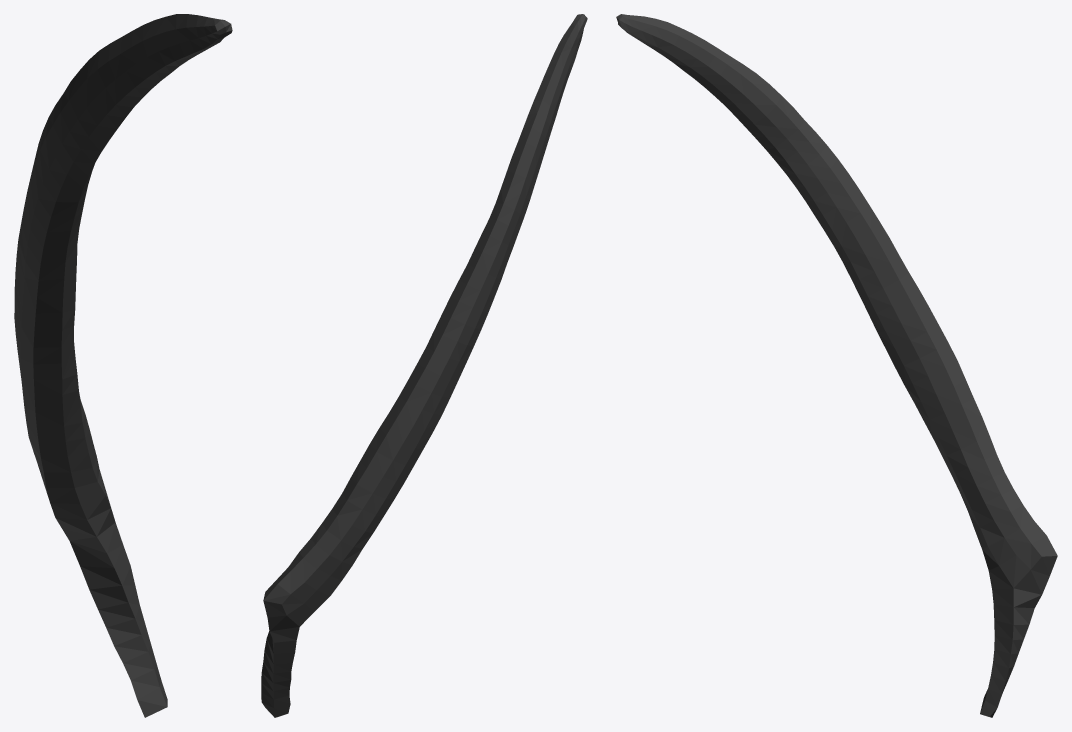
Rendered from Omotransversarius.glb.
3 renders of one model, left to right at view 1: azimuth 30°, elevation 25°; view 2: azimuth 150°, elevation 25°; view 3: azimuth 270°, elevation 25°, orthographic. The views are drawn at different scales.
Visible parts, largest first — view 1: Omotransversarius; view 2: Omotransversarius; view 3: Omotransversarius.
Boxes of the visible parts, x1=… form: Omotransversarius: x1=14, y1=14, x2=232, y2=717; Omotransversarius: x1=261, y1=14, x2=587, y2=717; Omotransversarius: x1=616, y1=14, x2=1057, y2=717.
Bounding box in the file's own units: 0.3318 × 1.19 × 0.7454.
1 material, 1 textured.
